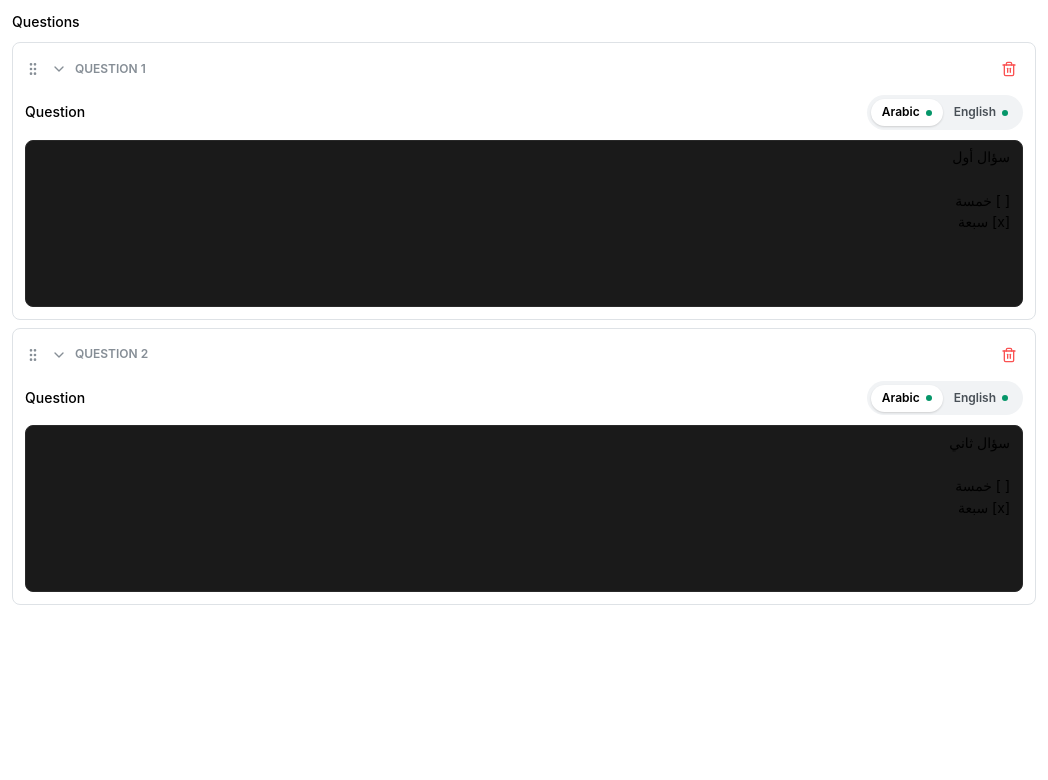
QuestionsEditor › collapsing a card hides its editor and shows a one-line text summary
Click the button "Question 1": (108, 68) top-left (51, 57), bottom-right (985, 82)
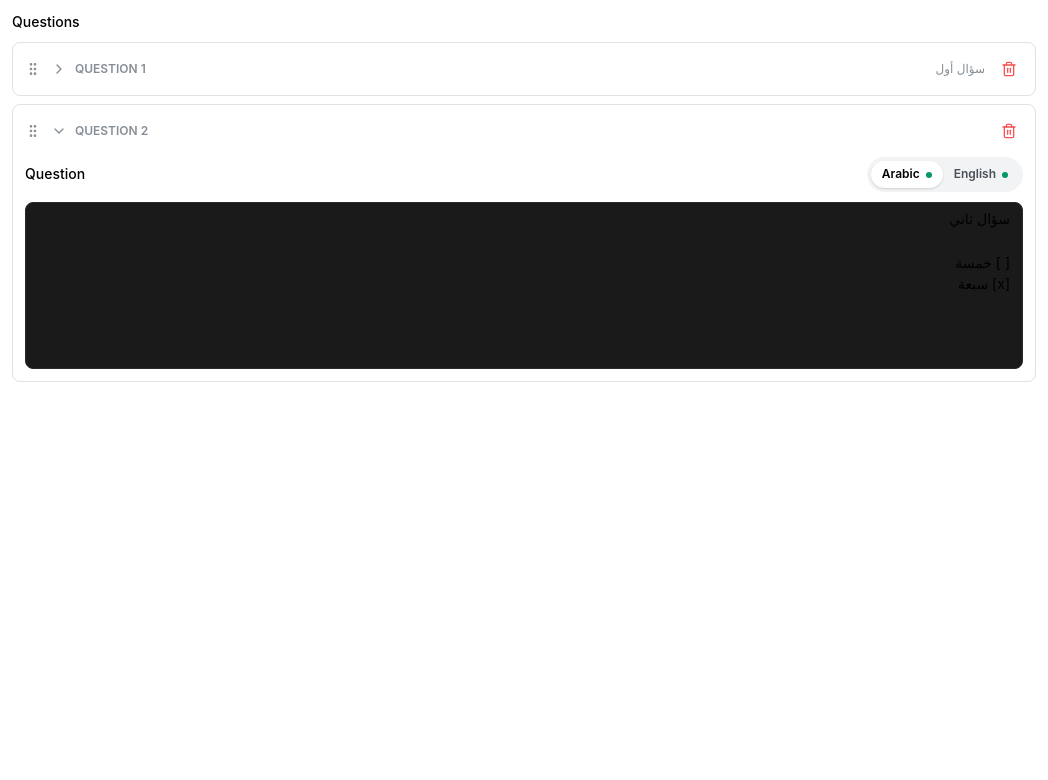
Expected: the number of text boxes labelled "Question" is 1, top-left (25, 202), bottom-right (1023, 369)
Now the text "سؤال أول" is shown, box top-left (936, 61), bottom-right (985, 76)
